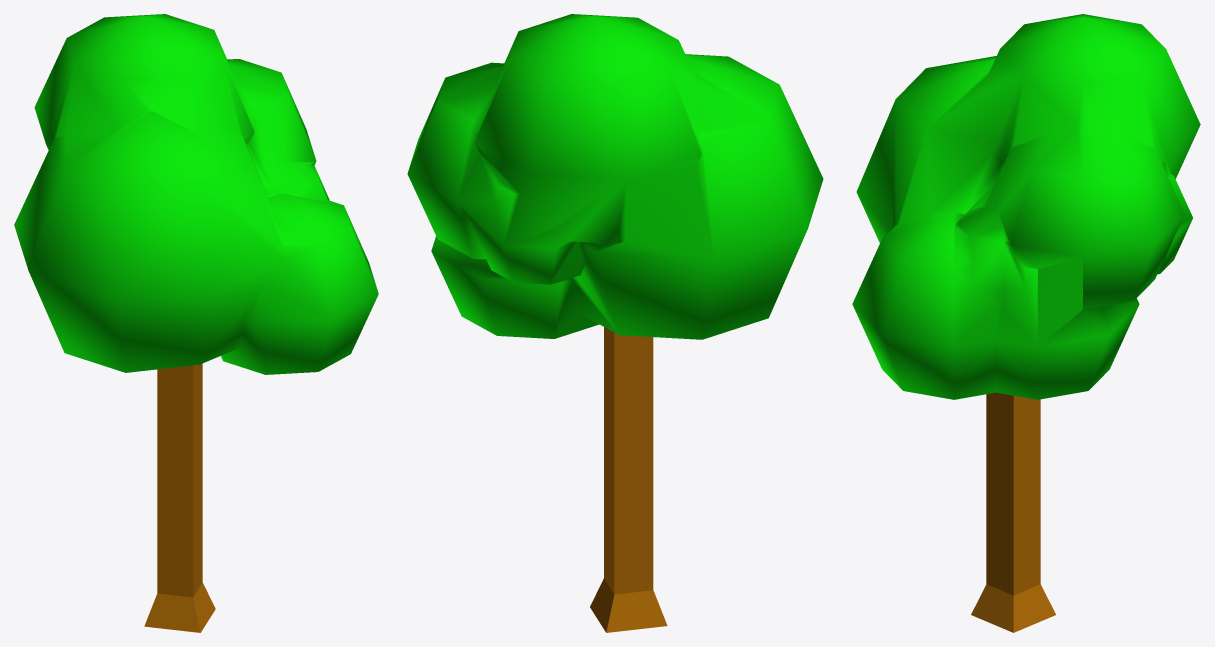
The model's file is Tree2.FBX.
The picture shows the model from 3 angles, left to right: view 1: azimuth 30°, elevation 25°; view 2: azimuth 150°, elevation 25°; view 3: azimuth 270°, elevation 25°; orthographic projection. The views are drawn at different scales.
Parts seen in each view (by area): view 1: Cylinder001; view 2: Cylinder001; view 3: Cylinder001.
Boxes of the visible parts, x1,y1,x2,y2 form: Cylinder001: (14, 14, 378, 632); Cylinder001: (407, 14, 823, 632); Cylinder001: (852, 14, 1200, 632).
Size of the model in its own units: 11.19 by 19.36 by 10.26.
